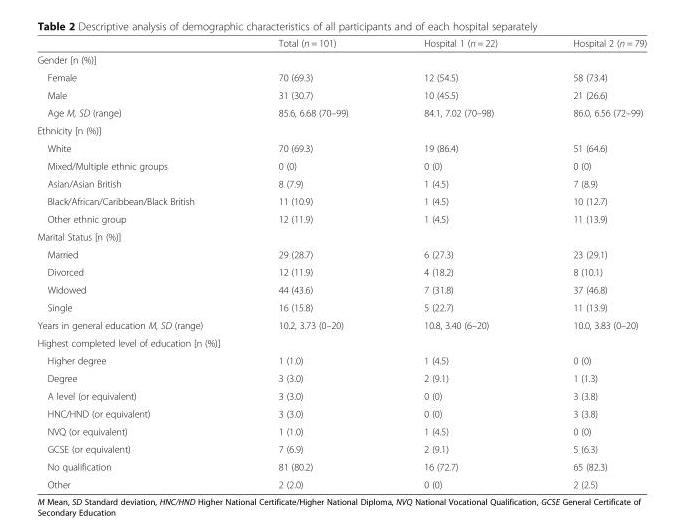table: (36, 37, 646, 489)
table column: (36, 37, 240, 489), (385, 37, 534, 489), (240, 37, 385, 489), (534, 37, 646, 489)
table column header: (36, 37, 646, 51)
table projected row header: (36, 121, 646, 139), (36, 227, 646, 245), (36, 333, 646, 351), (36, 51, 646, 68)
table row: (36, 85, 646, 103), (36, 103, 646, 121), (36, 121, 646, 139), (36, 156, 646, 174), (36, 174, 646, 192), (36, 209, 646, 227), (36, 227, 646, 245), (36, 262, 646, 280), (36, 280, 646, 298), (36, 315, 646, 333), (36, 333, 646, 351), (36, 351, 646, 369), (36, 386, 646, 404), (36, 404, 646, 422), (36, 439, 646, 457), (36, 457, 646, 475), (36, 51, 646, 68), (36, 68, 646, 85), (36, 139, 646, 156), (36, 192, 646, 209), (36, 245, 646, 262), (36, 298, 646, 315), (36, 369, 646, 386), (36, 422, 646, 439), (36, 37, 646, 51), (36, 475, 646, 489)
